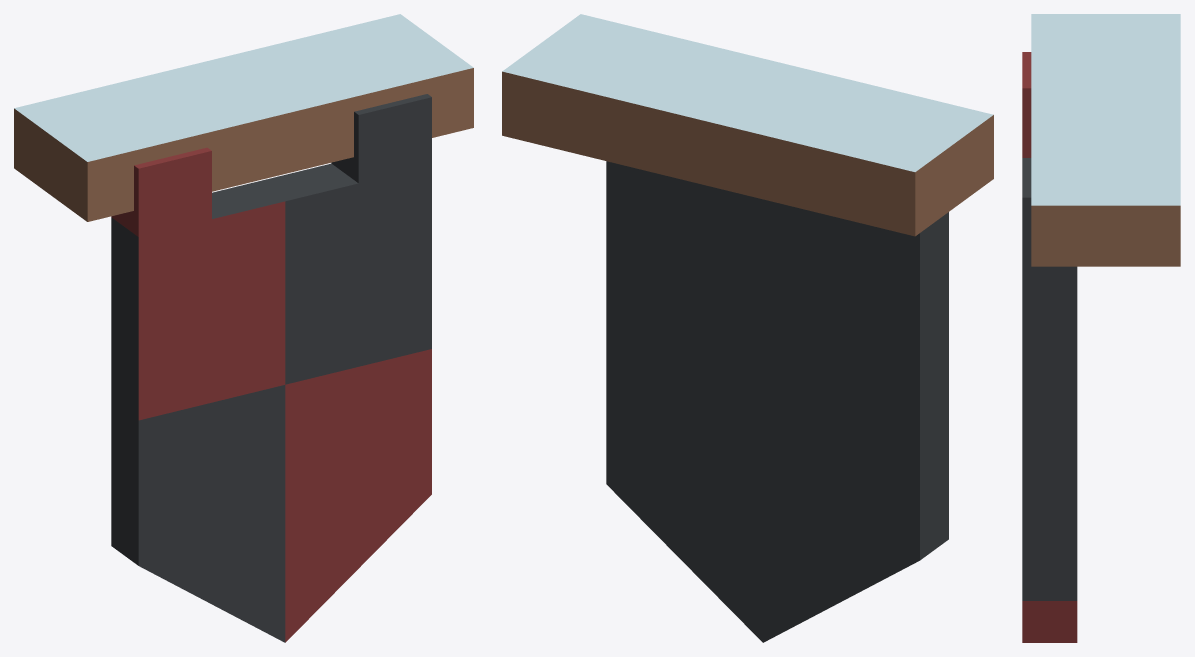
Rendered from SM_Bld_Knights_Castle_Flag_01_Snow.fbx.
3 renders of one model, left to right at view 1: azimuth 30°, elevation 25°; view 2: azimuth 150°, elevation 25°; view 3: azimuth 270°, elevation 25°, orthographic. The views are drawn at different scales.
Visible parts, largest first — view 1: SM_Bld_Knights_Castle_Flag_01_Snow; view 2: SM_Bld_Knights_Castle_Flag_01_Snow; view 3: SM_Bld_Knights_Castle_Flag_01_Snow.
Part boxes in pixels (x1,y1,x2,y2): SM_Bld_Knights_Castle_Flag_01_Snow: (14,14,473,642); SM_Bld_Knights_Castle_Flag_01_Snow: (502,14,993,642); SM_Bld_Knights_Castle_Flag_01_Snow: (1022,14,1180,642).
Bounding box in the file's own units: 36.64 × 47.53 × 12.82.
1 material, 1 textured.
